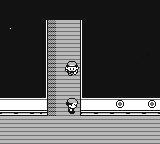main: (66, 99, 78, 114), (65, 62, 78, 75)
no-caminable: (1, 3, 159, 99), (81, 99, 159, 116), (0, 98, 48, 116)
npc: (66, 98, 78, 114)
